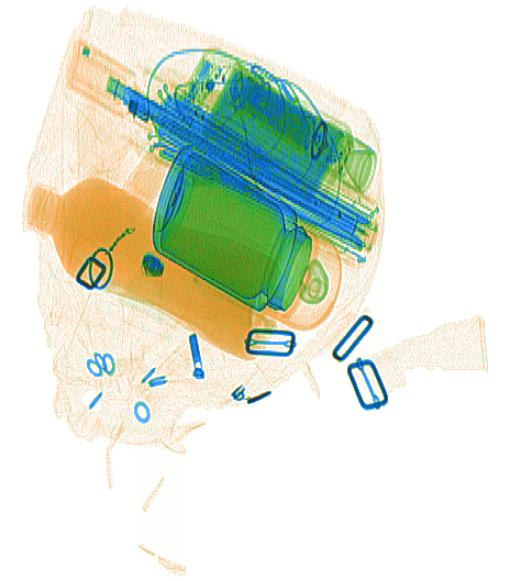battery: (236, 81, 319, 148)
